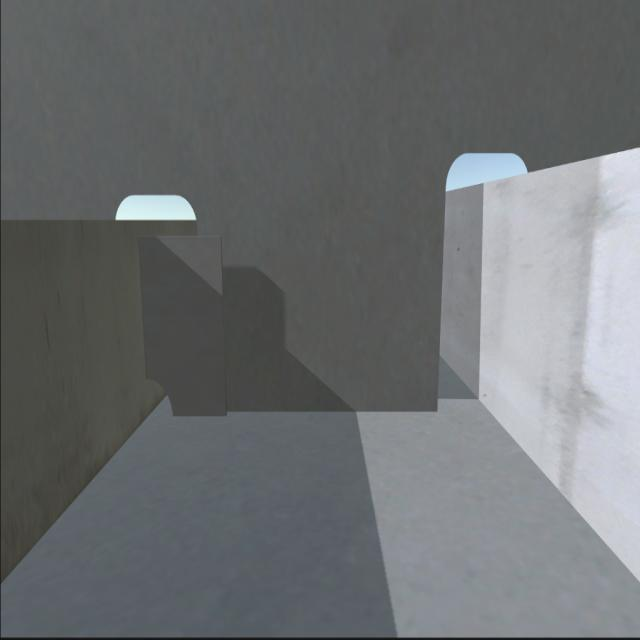fillet_hole: (144, 375, 175, 419)
fillet_yong_jeop_jang: (167, 403, 436, 420)
longi_yong_jeop_jang: (134, 229, 154, 382)
plate_CP01: (140, 232, 227, 415)
